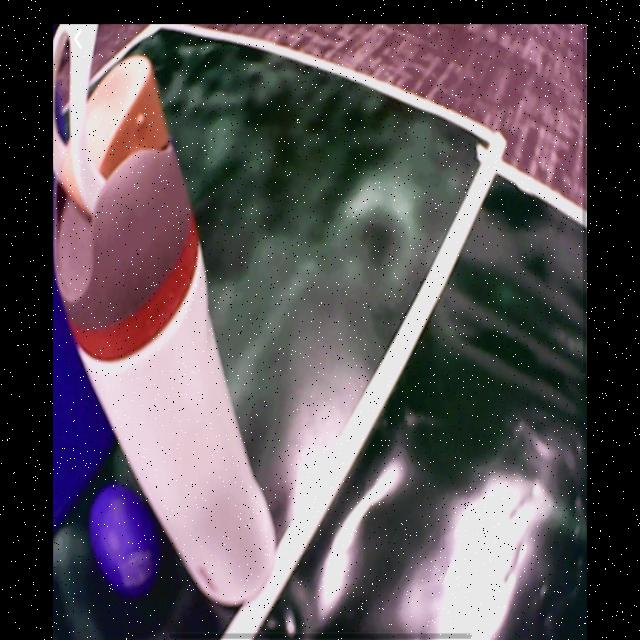ball: (90, 487, 158, 591)
